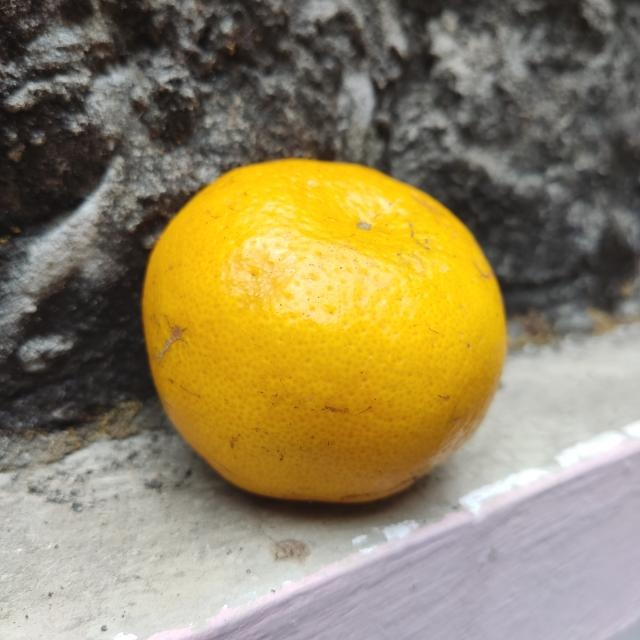agrume: (135, 150, 513, 510)
